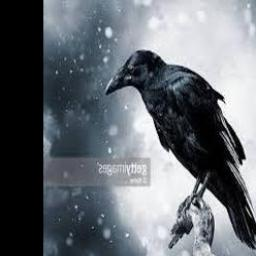Crow: (106, 48, 256, 249)
